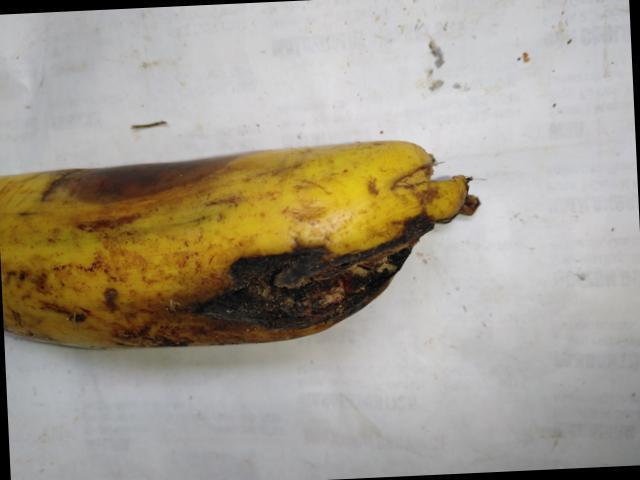ripe: (0, 155, 163, 356)
rotten: (178, 134, 497, 361), (23, 134, 245, 217)
